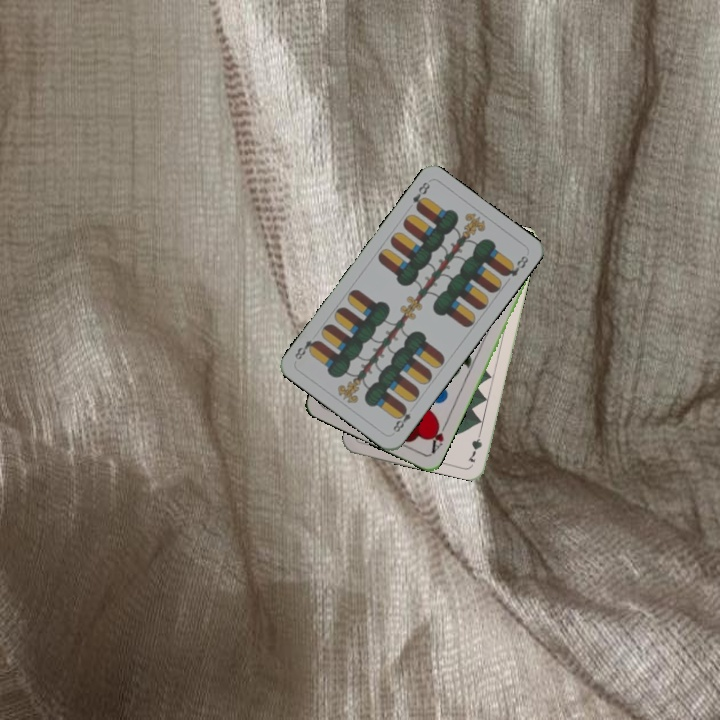E8: (408, 178, 433, 213), (389, 402, 414, 435)
G7: (464, 425, 485, 465)
HA: (426, 417, 450, 457)
